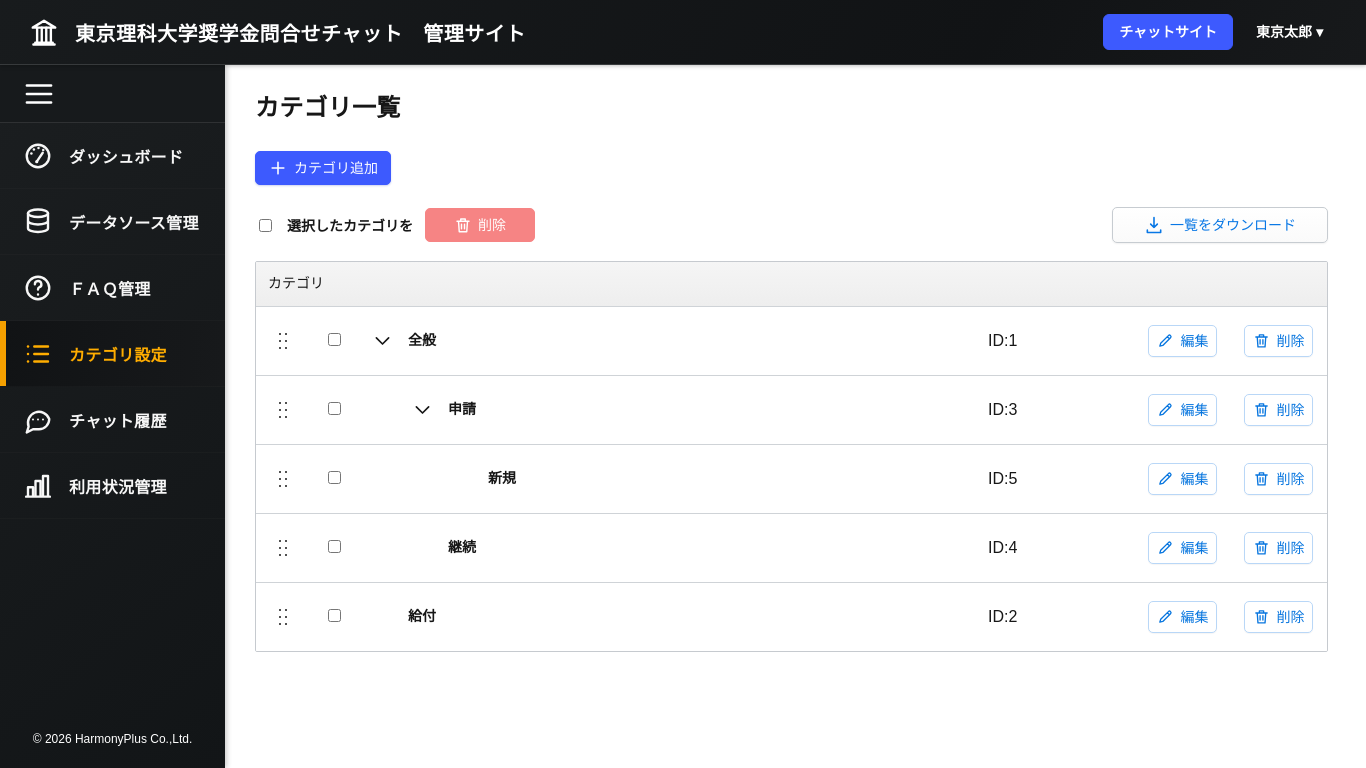
Test: CB-213 categories › 削除失敗とversion競合を表示する
Expected: the text "新規" is shown, [488,469,516,488]
Click the button "削除" in the row of "給付" at (1279, 616), box [1244,600,1314,632]
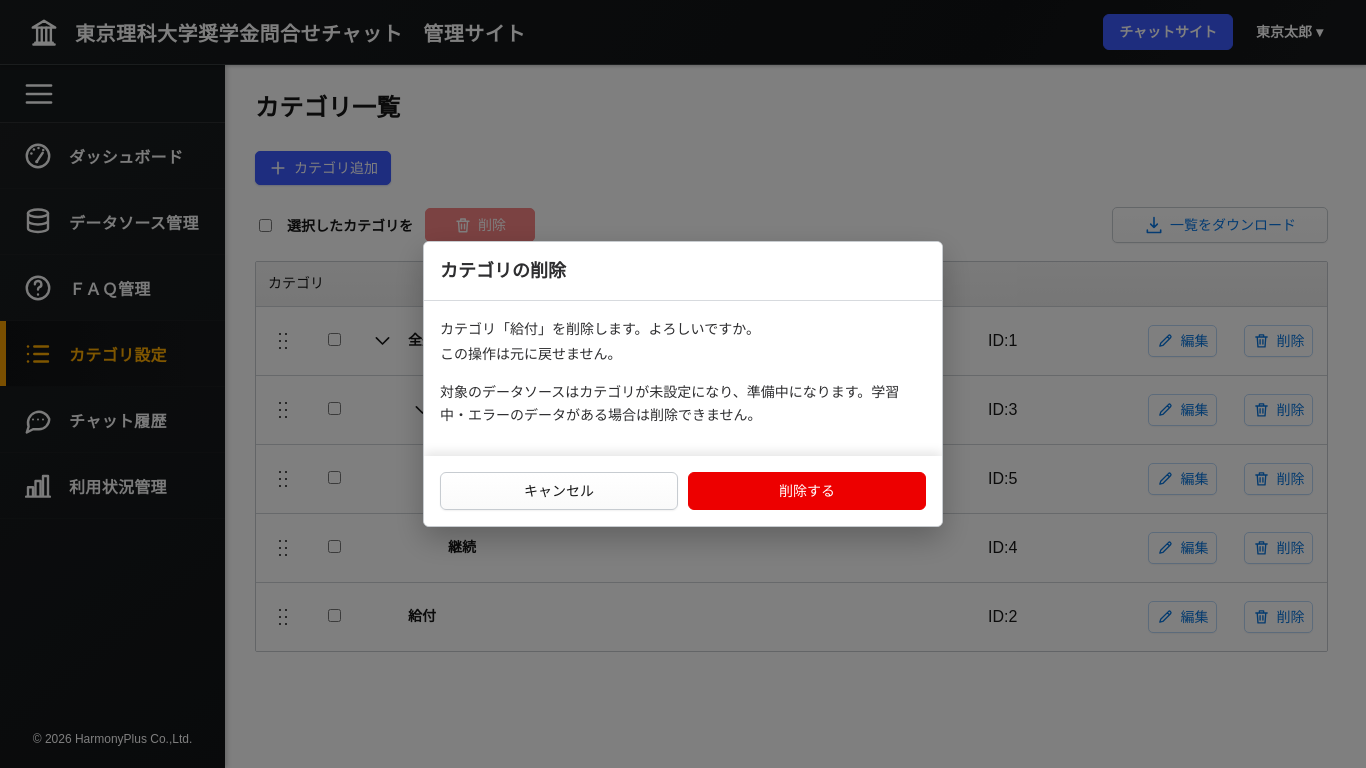
Click the button "削除する" at (807, 491), box [688,472,926,510]
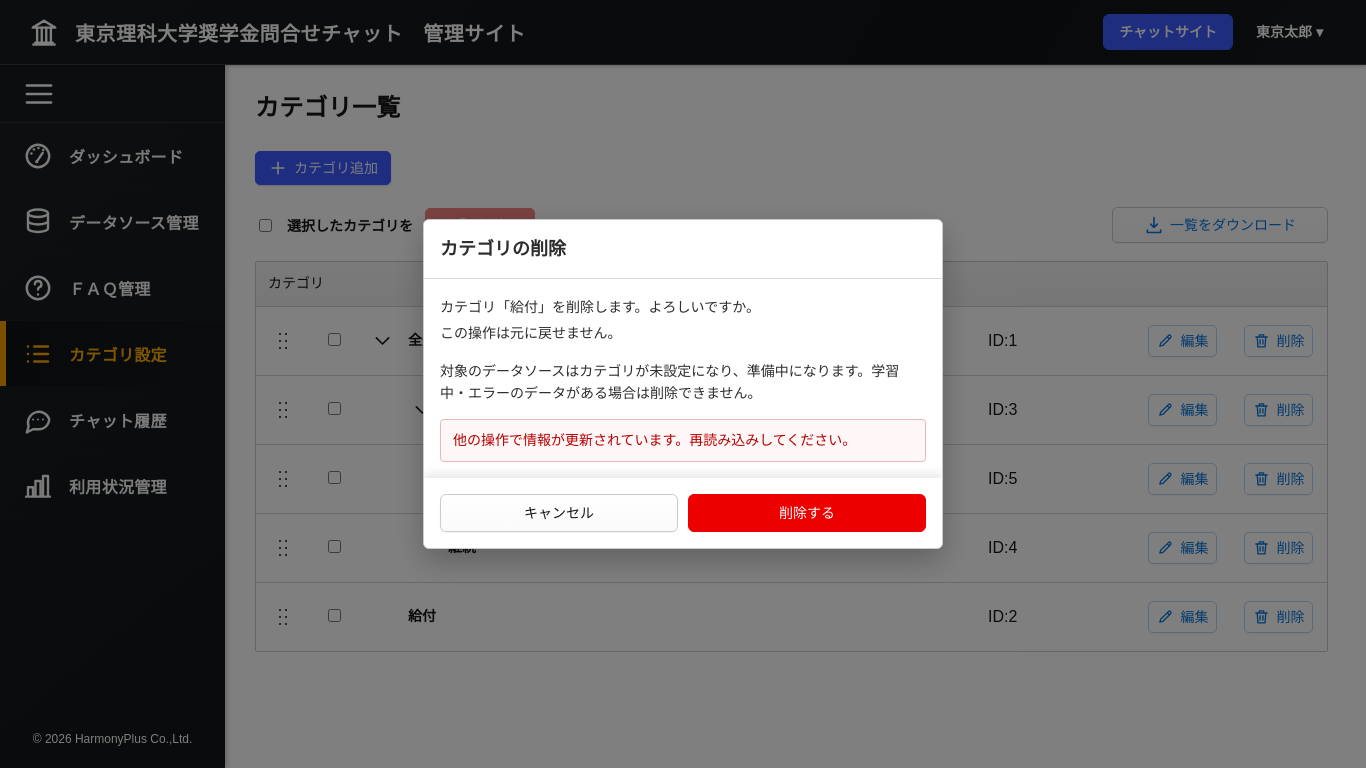
Result: the text "他の操作で情報が更新されています。再読み込みしてください。" is shown at [440,419,926,462]
